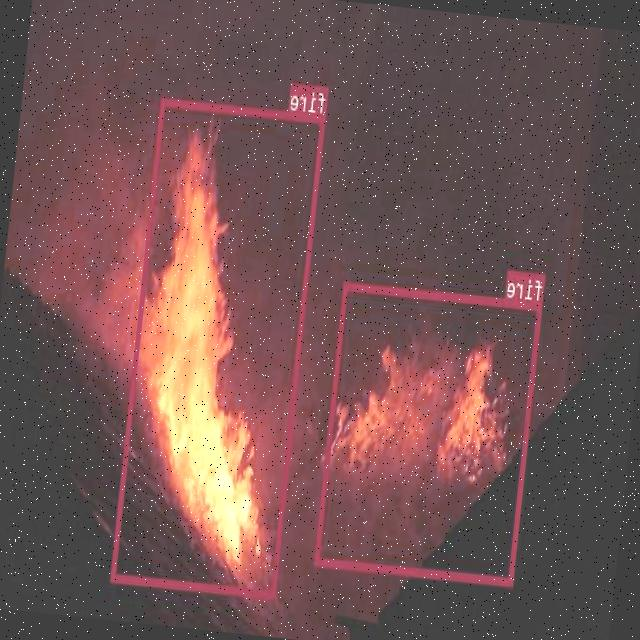fire: (111, 95, 326, 598), (316, 280, 544, 584)
